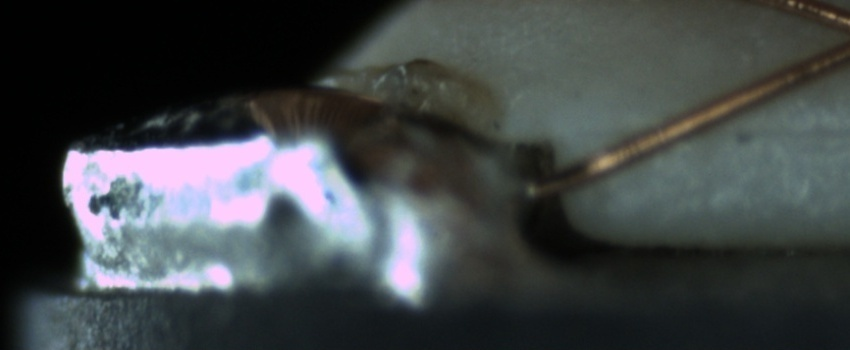DL: (699, 97, 850, 161)
